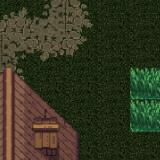Obstacle: (0, 131, 131, 160)
Slow: (130, 68, 160, 131)
